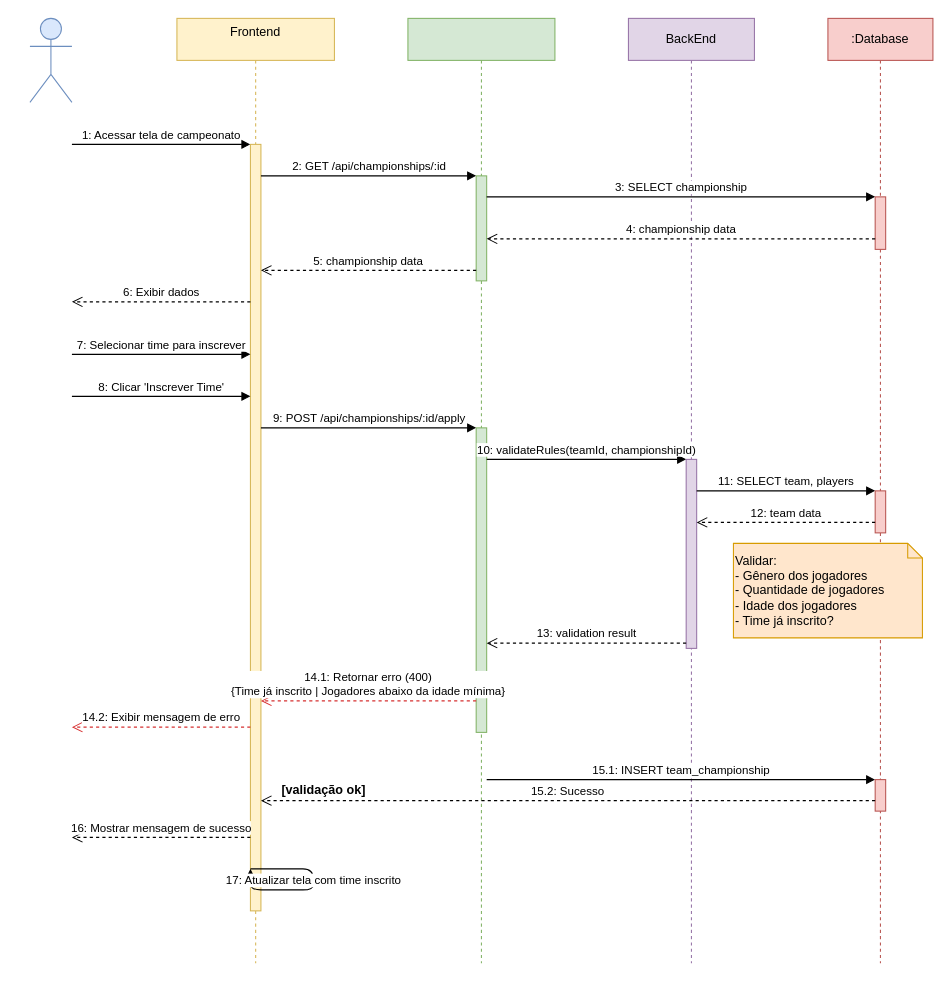
The diagram is 951 pixels wide and 982 high, and some of its shapes have lost their labels. Each missing label, with the centre of its shape:
"Admin Time" belongs at (x=50, y=59).
"API Backend" belongs at (x=481, y=490).
